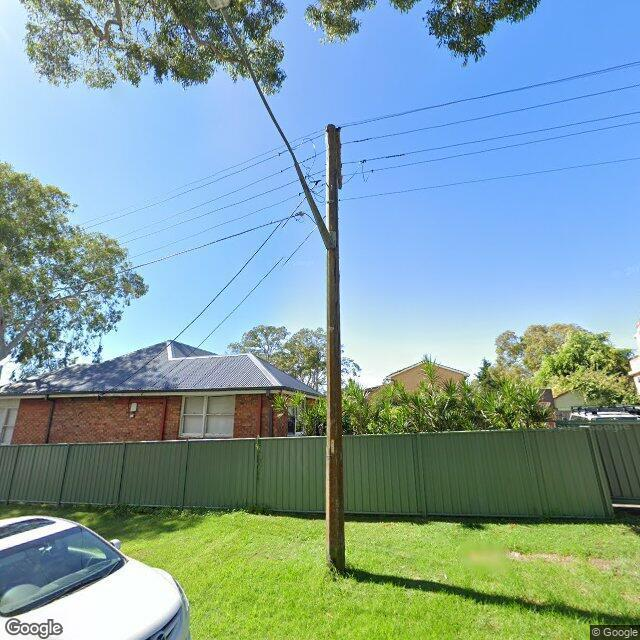crossarm: (334, 127, 344, 189)
streetlight: (208, 0, 331, 249)
timber-pole: (326, 124, 345, 573)
